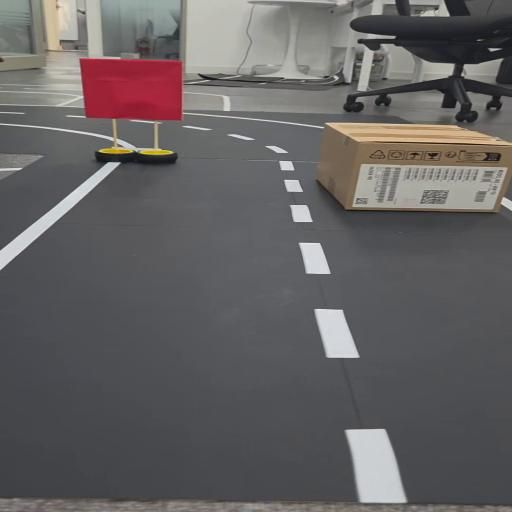Box: (325, 119, 512, 216)
Sign_A: (79, 54, 183, 176)
